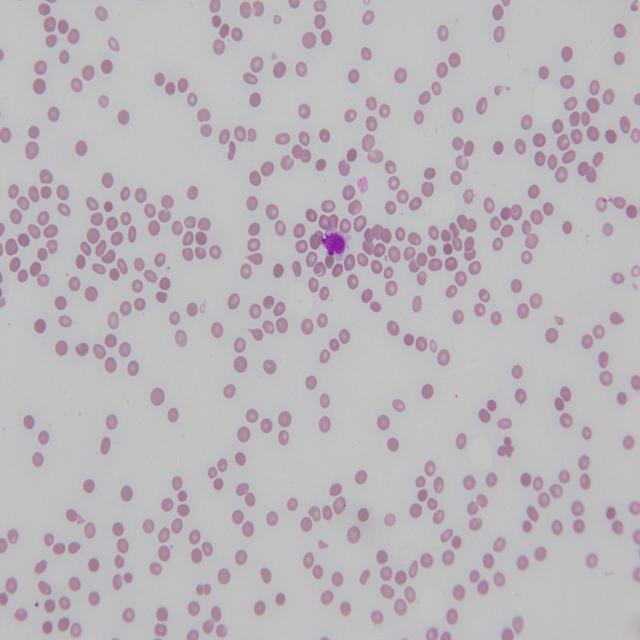cell: (322, 230, 350, 260)
